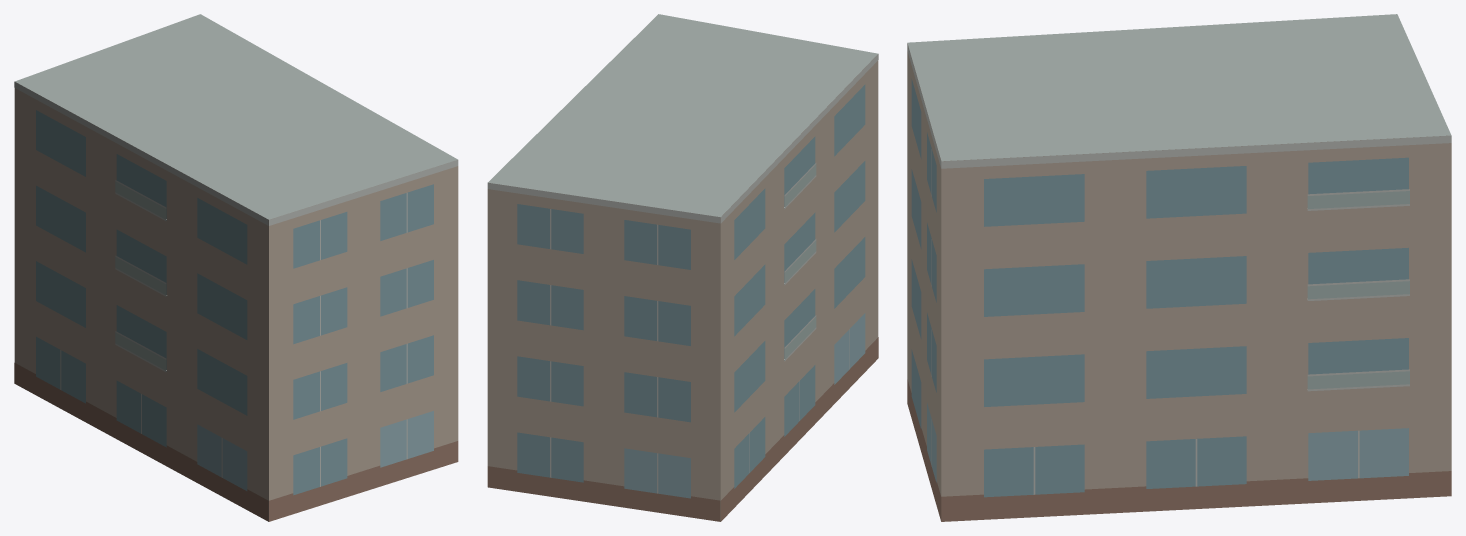
The model's file is survey-upis-32716142.glb.
The picture shows the model from 3 angles, left to right: view 1: azimuth 30°, elevation 25°; view 2: azimuth 150°, elevation 25°; view 3: azimuth 270°, elevation 25°; orthographic projection. The views are drawn at different scales.
Visible parts, largest first — view 1: survey-upis-32716142.tmp; view 2: survey-upis-32716142.tmp; view 3: survey-upis-32716142.tmp.
Boxes of the visible parts, bbox=[...] form: survey-upis-32716142.tmp: bbox=[14, 14, 458, 521]; survey-upis-32716142.tmp: bbox=[487, 14, 878, 521]; survey-upis-32716142.tmp: bbox=[907, 14, 1451, 521].
Bounding box in the file's own units: 10.25 × 11.7 × 16.01.
